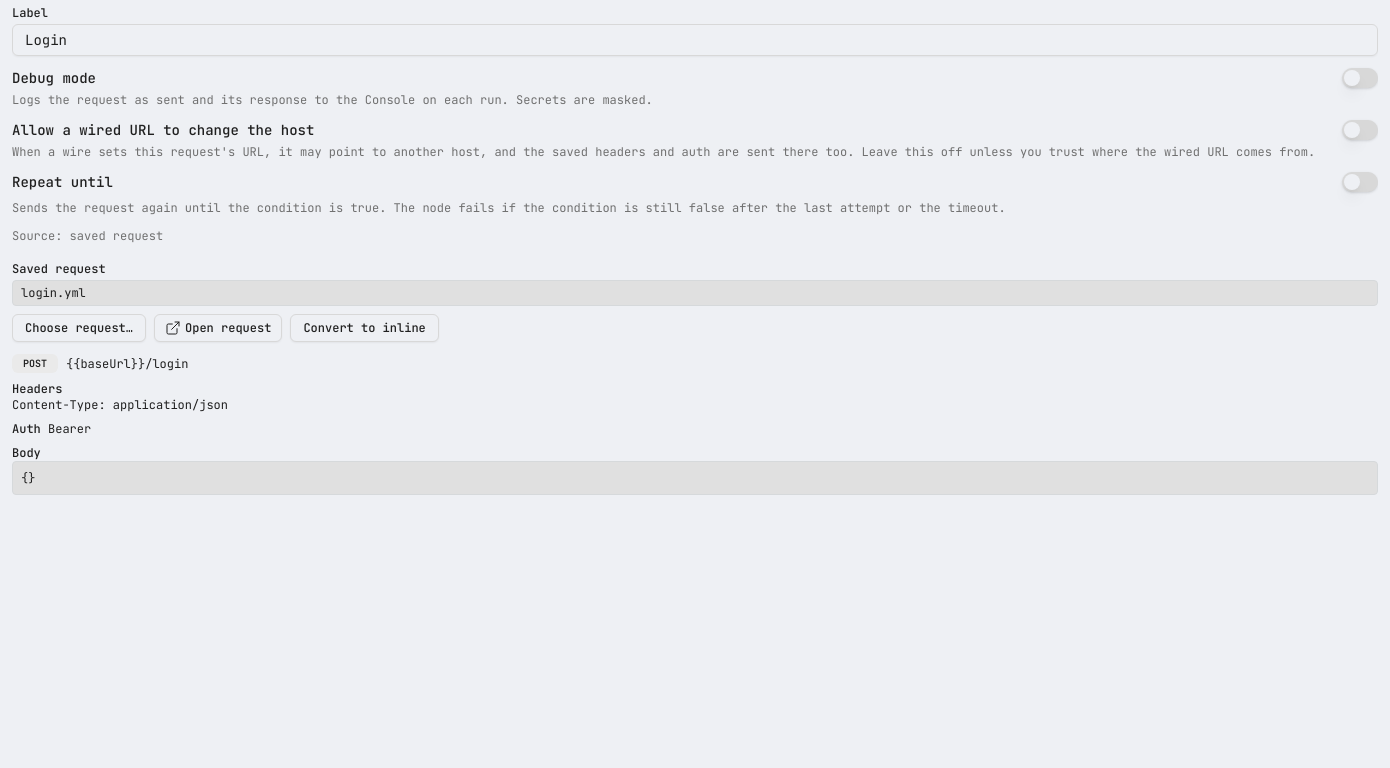
Test case: RequestNodeEditor › drops a pending confirmation when the source changes
Click the button "Convert to inline": (365, 328) [290,314,439,342]
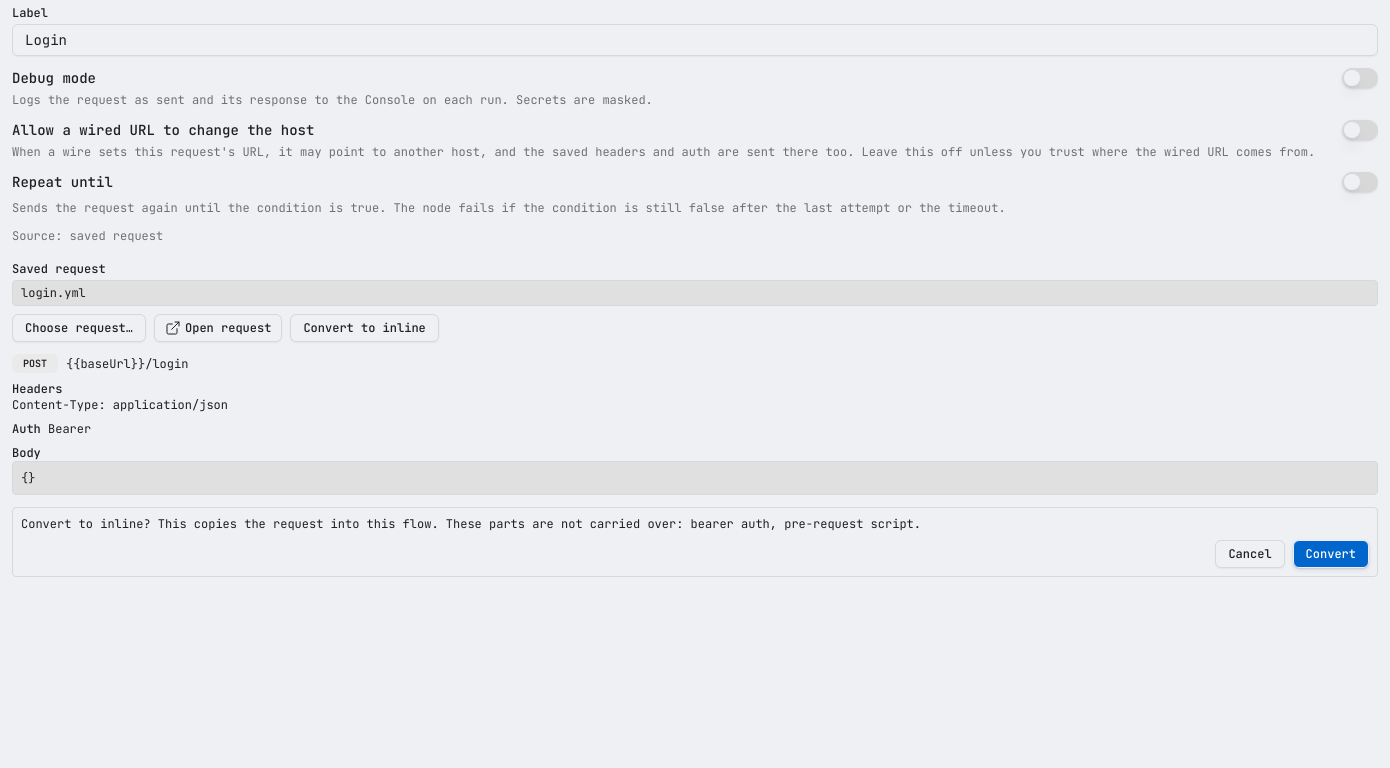
Expected: the button "Convert" is shown, [1293,540,1369,568]
